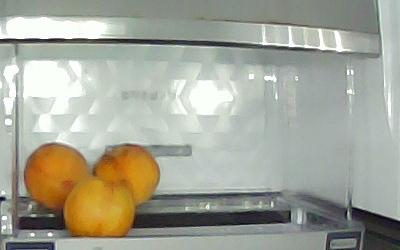peach: (64, 175, 135, 238), (23, 143, 90, 209), (94, 144, 160, 205)
